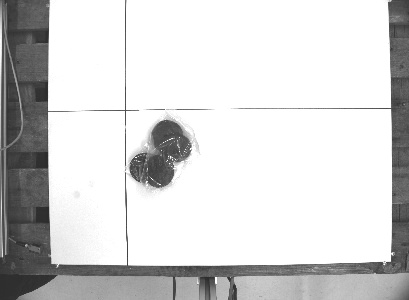t1: (119, 100, 205, 198)
